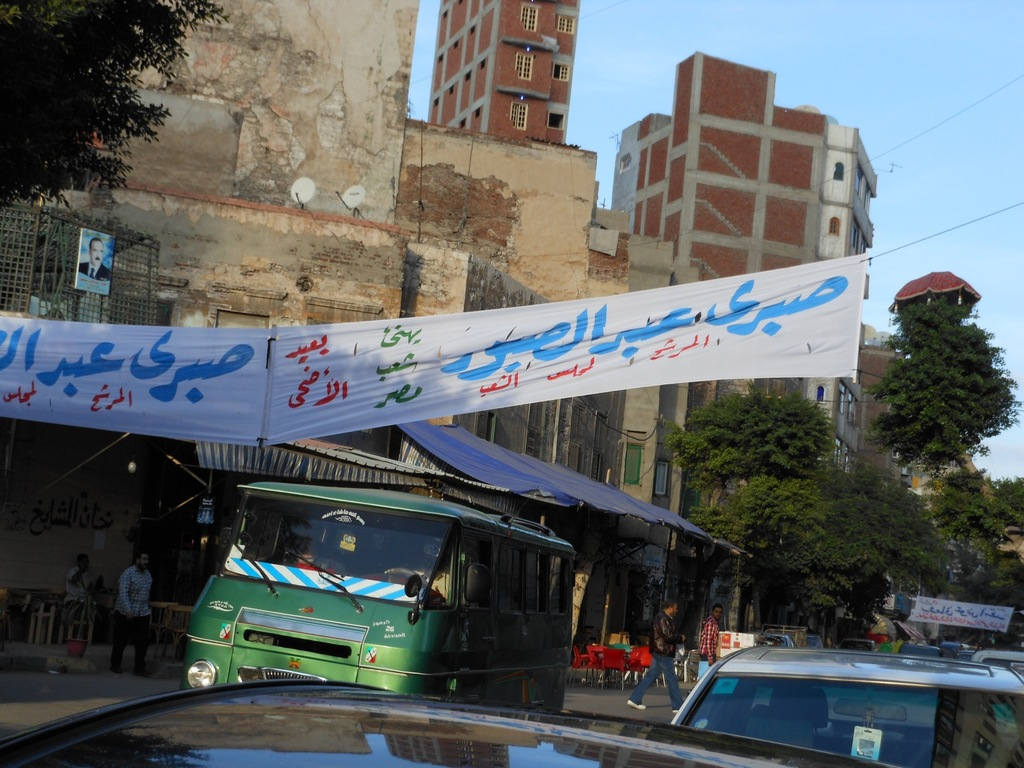Car: (0, 676, 788, 767), (661, 646, 992, 764)
